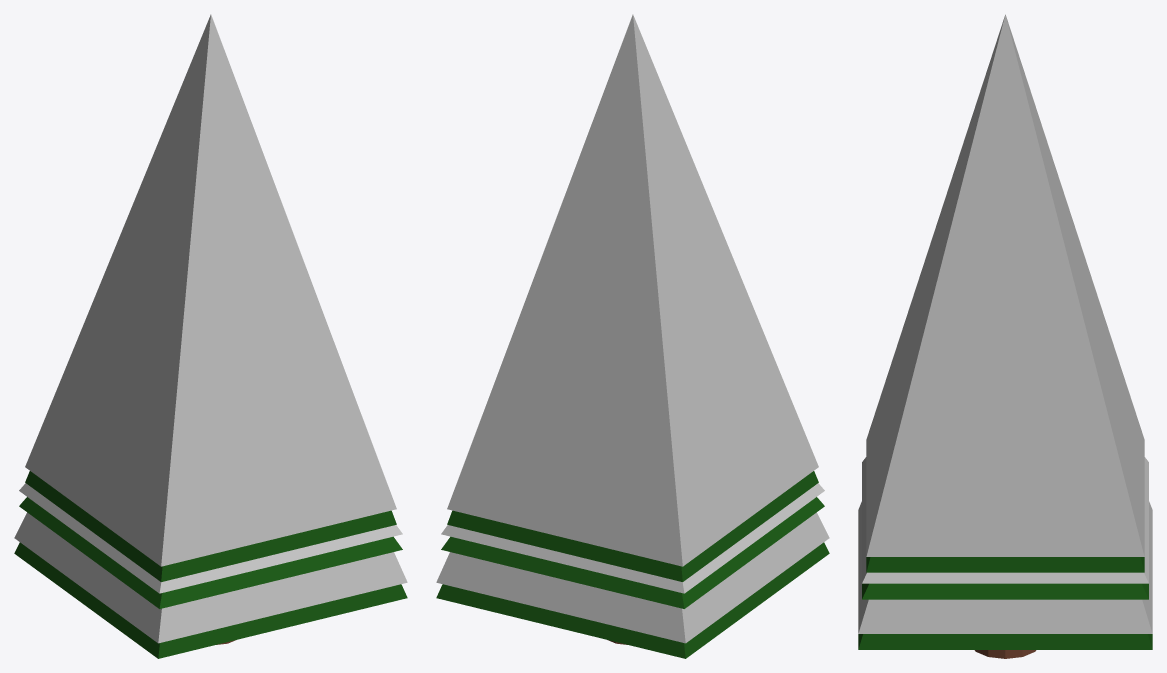
The model's file is Tree_34_winter_vc.fbx.
3 renders of one model, left to right at view 1: azimuth 30°, elevation 25°; view 2: azimuth 150°, elevation 25°; view 3: azimuth 270°, elevation 25°, orthographic. The views are drawn at different scales.
Visible parts, largest first — view 1: Tree_34_winter_vc; view 2: Tree_34_winter_vc; view 3: Tree_34_winter_vc.
Part boxes in pixels (x1,y1,x2,y2): Tree_34_winter_vc: (14,14,407,658); Tree_34_winter_vc: (436,14,829,658); Tree_34_winter_vc: (858,14,1152,658).
Bounding box in the file's own units: 2.18 × 5.15 × 2.18.
